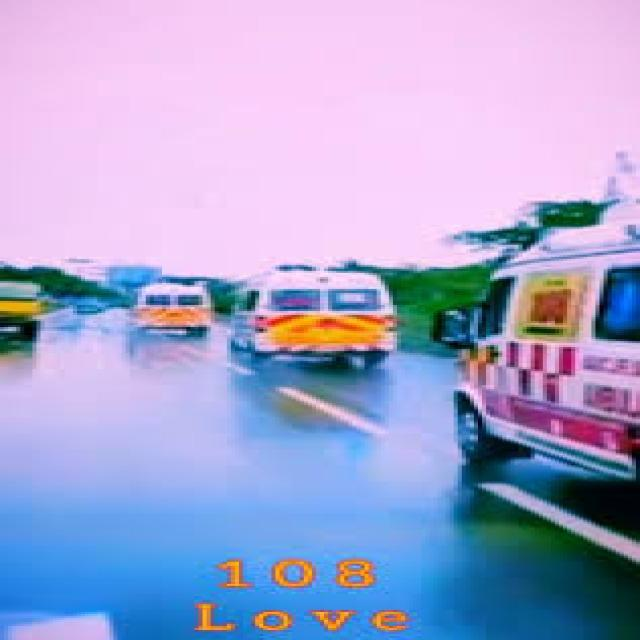ambulance: (421, 225, 640, 496), (225, 262, 404, 379), (128, 274, 217, 344)
